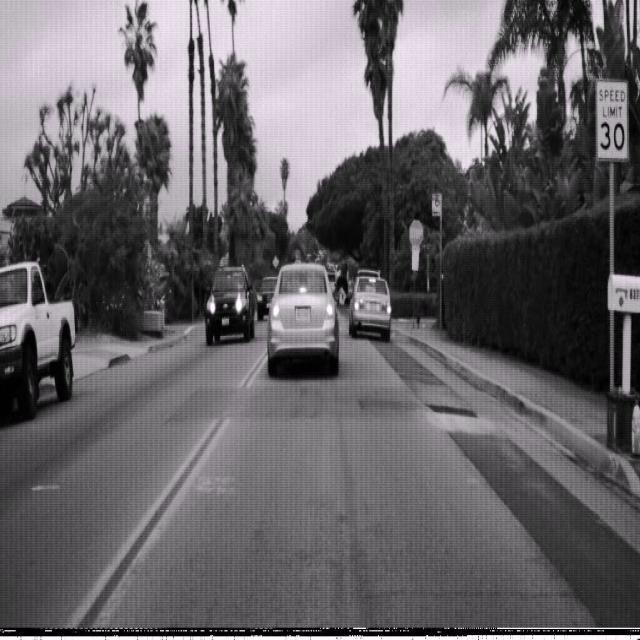stop_sign: (408, 218, 424, 248)
